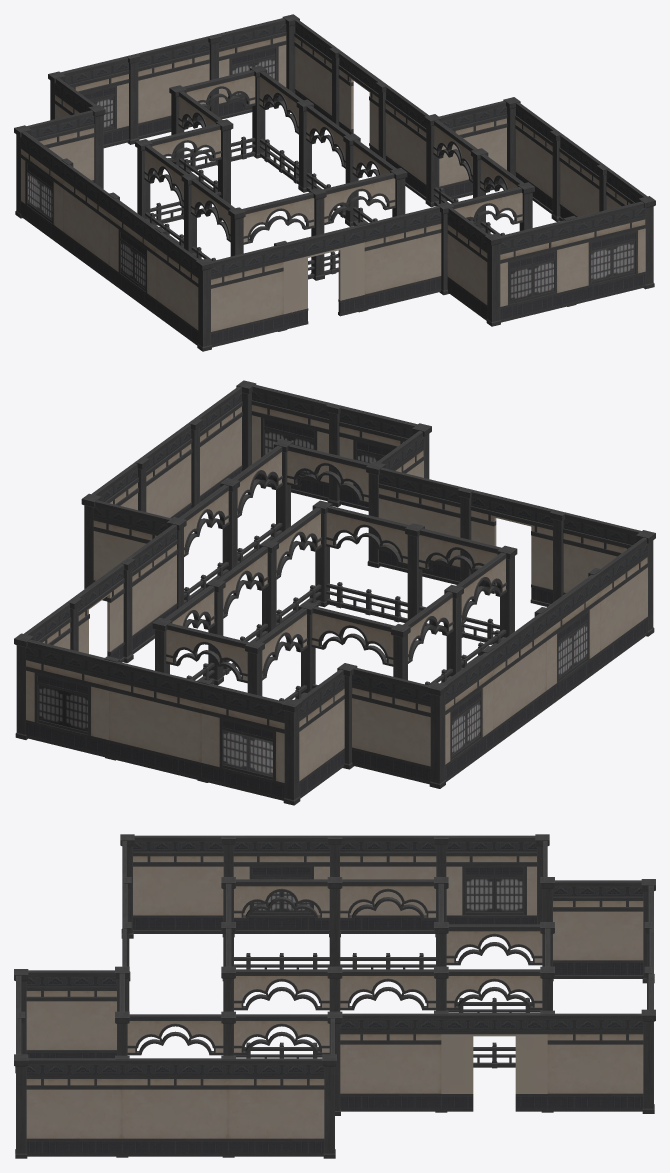
The model's file is Homeworld_Interior_Dq_Room_F_Wall_01_Vo.fbx.
The picture shows the model from 3 angles, top to bottom: view 1: azimuth 30°, elevation 25°; view 2: azimuth 150°, elevation 25°; view 3: azimuth 270°, elevation 25°; orthographic projection. The views are drawn at different scales.
Visible parts, largest first — view 1: Homeworld_Interior_Dq_Room_Wall_01_Vo (×14), Homeworld_Interior_Dq_Room_Wall_02_Vo (×6), Homeworld_Interior_Dq_Room_Wall_05_Vo (×12), Homeworld_Interior_Dq_Room_Pillar_01_Vo (×21), Homeworld_Interior_Dq_Room_Wall_06_Vo (×2), Homeworld_Interior_Dq_Room_F_Filling_01_Vo, Homeworld_Interior_Dq_Room_Pillar_02_Vo (×5), Homeworld_Interior_Dq_Room_Wall_03_Vo; view 2: Homeworld_Interior_Dq_Room_Wall_01_Vo (×14), Homeworld_Interior_Dq_Room_Wall_02_Vo (×6), Homeworld_Interior_Dq_Room_Wall_05_Vo (×12), Homeworld_Interior_Dq_Room_Pillar_01_Vo (×21), Homeworld_Interior_Dq_Room_Wall_06_Vo (×2), Homeworld_Interior_Dq_Room_F_Filling_01_Vo, Homeworld_Interior_Dq_Room_Pillar_02_Vo (×5), Homeworld_Interior_Dq_Room_Wall_03_Vo; view 3: Homeworld_Interior_Dq_Room_Wall_01_Vo (×9), Homeworld_Interior_Dq_Room_Wall_05_Vo (×8), Homeworld_Interior_Dq_Room_Wall_02_Vo (×2), Homeworld_Interior_Dq_Room_Pillar_01_Vo (×17), Homeworld_Interior_Dq_Room_Wall_06_Vo, Homeworld_Interior_Dq_Room_Pillar_02_Vo (×3).
Part boxes in pixels (x1=…): Homeworld_Interior_Dq_Room_Wall_01_Vo (×14): x1=26, y1=19, x2=647, y2=347; Homeworld_Interior_Dq_Room_Wall_02_Vo (×6): x1=21, y1=18, x2=645, y2=322; Homeworld_Interior_Dq_Room_Wall_05_Vo (×12): x1=144, y1=70, x2=523, y2=279; Homeworld_Interior_Dq_Room_Pillar_01_Vo (×21): x1=14, y1=14, x2=655, y2=351; Homeworld_Interior_Dq_Room_Wall_06_Vo (×2): x1=283, y1=50, x2=385, y2=329; Homeworld_Interior_Dq_Room_F_Filling_01_Vo: x1=27, y1=172, x2=634, y2=301; Homeworld_Interior_Dq_Room_Pillar_02_Vo (×5): x1=127, y1=34, x2=561, y2=221; Homeworld_Interior_Dq_Room_Wall_03_Vo: x1=450, y1=187, x2=523, y2=225; Homeworld_Interior_Dq_Room_Wall_01_Vo (×14): x1=24, y1=386, x2=647, y2=798; Homeworld_Interior_Dq_Room_Wall_02_Vo (×6): x1=26, y1=384, x2=599, y2=800; Homeworld_Interior_Dq_Room_Wall_05_Vo (×12): x1=164, y1=445, x2=506, y2=701; Homeworld_Interior_Dq_Room_Pillar_01_Vo (×21): x1=14, y1=380, x2=655, y2=805; Homeworld_Interior_Dq_Room_Wall_06_Vo (×2): x1=70, y1=488, x2=560, y2=662; Homeworld_Interior_Dq_Room_F_Filling_01_Vo: x1=38, y1=623, x2=587, y2=776; Homeworld_Interior_Dq_Room_Pillar_02_Vo (×5): x1=121, y1=403, x2=565, y2=663; Homeworld_Interior_Dq_Room_Wall_03_Vo: x1=287, y1=444, x2=369, y2=504; Homeworld_Interior_Dq_Room_Wall_01_Vo (×9): x1=26, y1=835, x2=643, y2=1156; Homeworld_Interior_Dq_Room_Wall_05_Vo (×8): x1=127, y1=879, x2=542, y2=1068; Homeworld_Interior_Dq_Room_Wall_02_Vo (×2): x1=229, y1=835, x2=536, y2=933; Homeworld_Interior_Dq_Room_Pillar_01_Vo (×17): x1=14, y1=834, x2=655, y2=1158; Homeworld_Interior_Dq_Room_Wall_06_Vo: x1=441, y1=1013, x2=547, y2=1111; Homeworld_Interior_Dq_Room_Pillar_02_Vo (×3): x1=221, y1=836, x2=448, y2=937.
Size of what is drawn, in the model's own units: 25.18 by 5.12 by 30.18.
